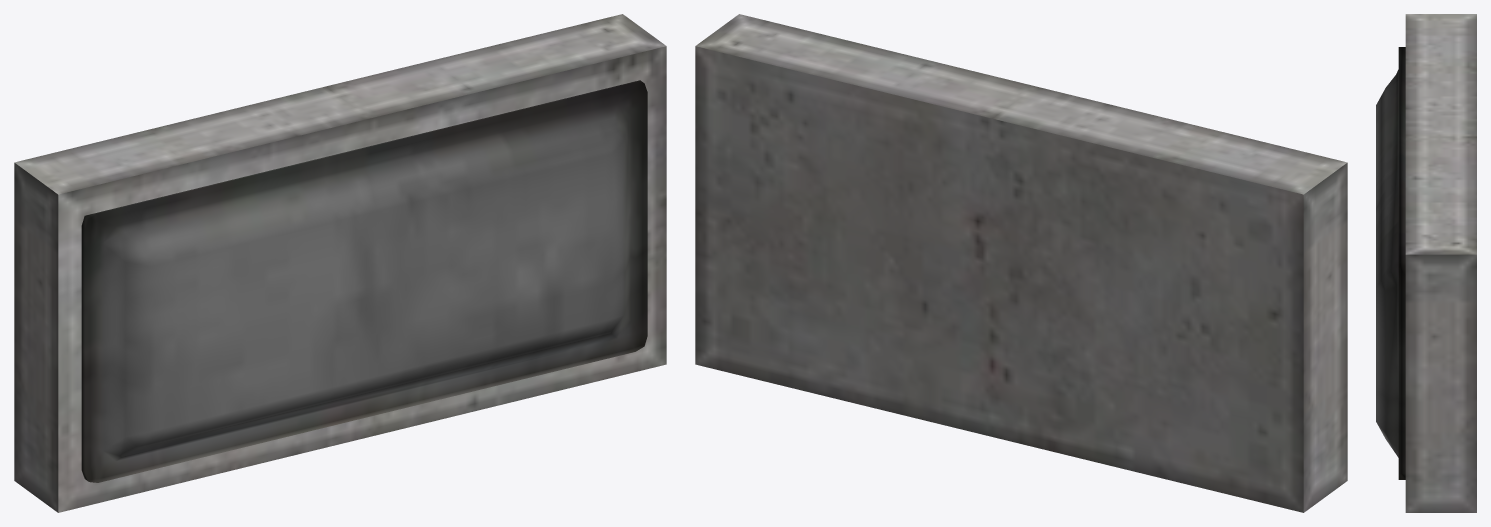
Rendered from backlit_sign_elevator_green.glb.
3 renders of one model, left to right at view 1: azimuth 30°, elevation 25°; view 2: azimuth 150°, elevation 25°; view 3: azimuth 270°, elevation 25°, orthographic. The views are drawn at different scales.
Parts seen in each view (by area): view 1: backlit_sign_elevator_LOD0; view 2: backlit_sign_elevator_LOD0; view 3: backlit_sign_elevator_LOD0.
Part boxes in pixels (left/top/right/bottom): backlit_sign_elevator_LOD0: left=14, top=14, right=666, bottom=512; backlit_sign_elevator_LOD0: left=695, top=14, right=1347, bottom=512; backlit_sign_elevator_LOD0: left=1376, top=14, right=1476, bottom=512.
Bounding box in the file's own units: 0.5 × 0.25 × 0.0886.
Materials: 1 (1 with a texture image).
